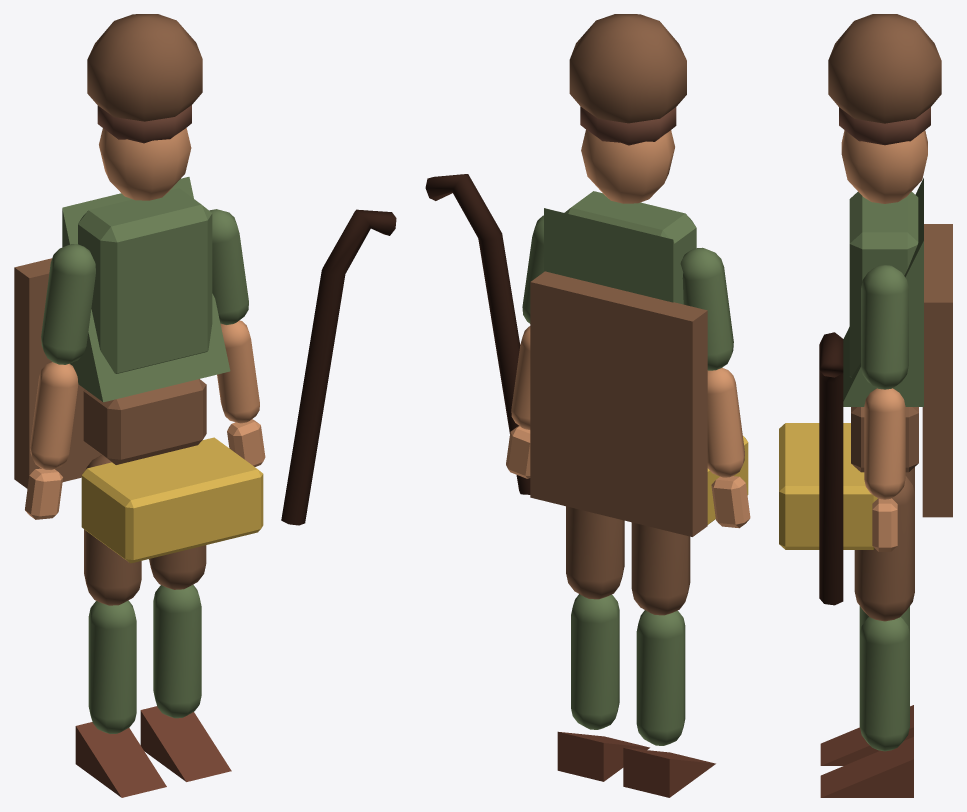
The model's file is adventurer.rustic.glb.
The picture shows the model from 3 angles, left to right: view 1: azimuth 30°, elevation 25°; view 2: azimuth 150°, elevation 25°; view 3: azimuth 270°, elevation 25°; orthographic projection.
Visible parts, largest first — view 1: torso, accessory.waist, accessory.head, accessory.main-hand, pelvis, accessory.back, tunic, shin.right, shin.left, upper-arm.left, head, foot.left (+9 smaller); view 2: accessory.back, accessory.head, tunic, accessory.main-hand, shin.left, shin.right, head, thigh.left, thigh.right, upper-arm.left, torso, forearm.left (+8 smaller); view 3: accessory.head, accessory.back, accessory.waist, accessory.main-hand, shin.right, torso, upper-arm.right, thigh.right, head, forearm.right, tunic, foot.right (+4 smaller).
Part boxes in pixels (x1,y1,x2,y2): torso: (78, 188, 212, 373); accessory.waist: (81, 437, 263, 563); accessory.head: (87, 14, 202, 121); accessory.main-hand: (281, 209, 396, 525); pelvis: (83, 379, 206, 464); accessory.back: (14, 258, 101, 488); tunic: (62, 177, 230, 402); shin.right: (153, 584, 201, 718); shin.left: (88, 600, 136, 733); upper-arm.left: (41, 244, 95, 364); head: (99, 128, 191, 200); foot.left: (75, 722, 166, 797); accessory.back: (530, 271, 707, 536); accessory.head: (569, 14, 686, 123); tunic: (544, 208, 683, 304); accessory.main-hand: (425, 174, 530, 494); shin.left: (636, 610, 685, 745); shin.right: (571, 594, 619, 729); head: (581, 130, 674, 203); thigh.left: (631, 522, 690, 615); thigh.right: (566, 506, 624, 599); upper-arm.left: (680, 247, 733, 370); torso: (564, 191, 696, 262); forearm.left: (707, 367, 744, 477); accessory.head: (828, 14, 941, 123); accessory.back: (922, 224, 952, 517); accessory.waist: (779, 423, 877, 549); accessory.main-hand: (819, 332, 843, 605); shin.right: (859, 617, 909, 751); torso: (849, 191, 918, 377); upper-arm.right: (861, 265, 908, 389); thigh.right: (854, 476, 914, 621); head: (841, 130, 927, 203); forearm.right: (864, 388, 905, 499); tunic: (843, 178, 923, 406); foot.right: (820, 737, 913, 797).
Bounding box in the file's own units: 1.57 × 3.29 × 0.69.
